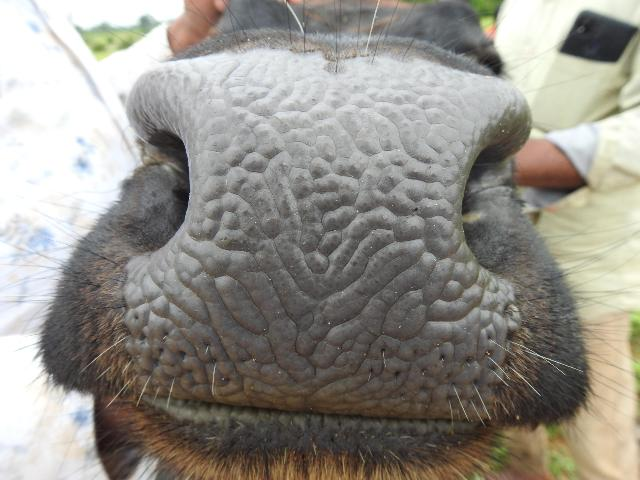Muzzle: (158, 75, 490, 422)
